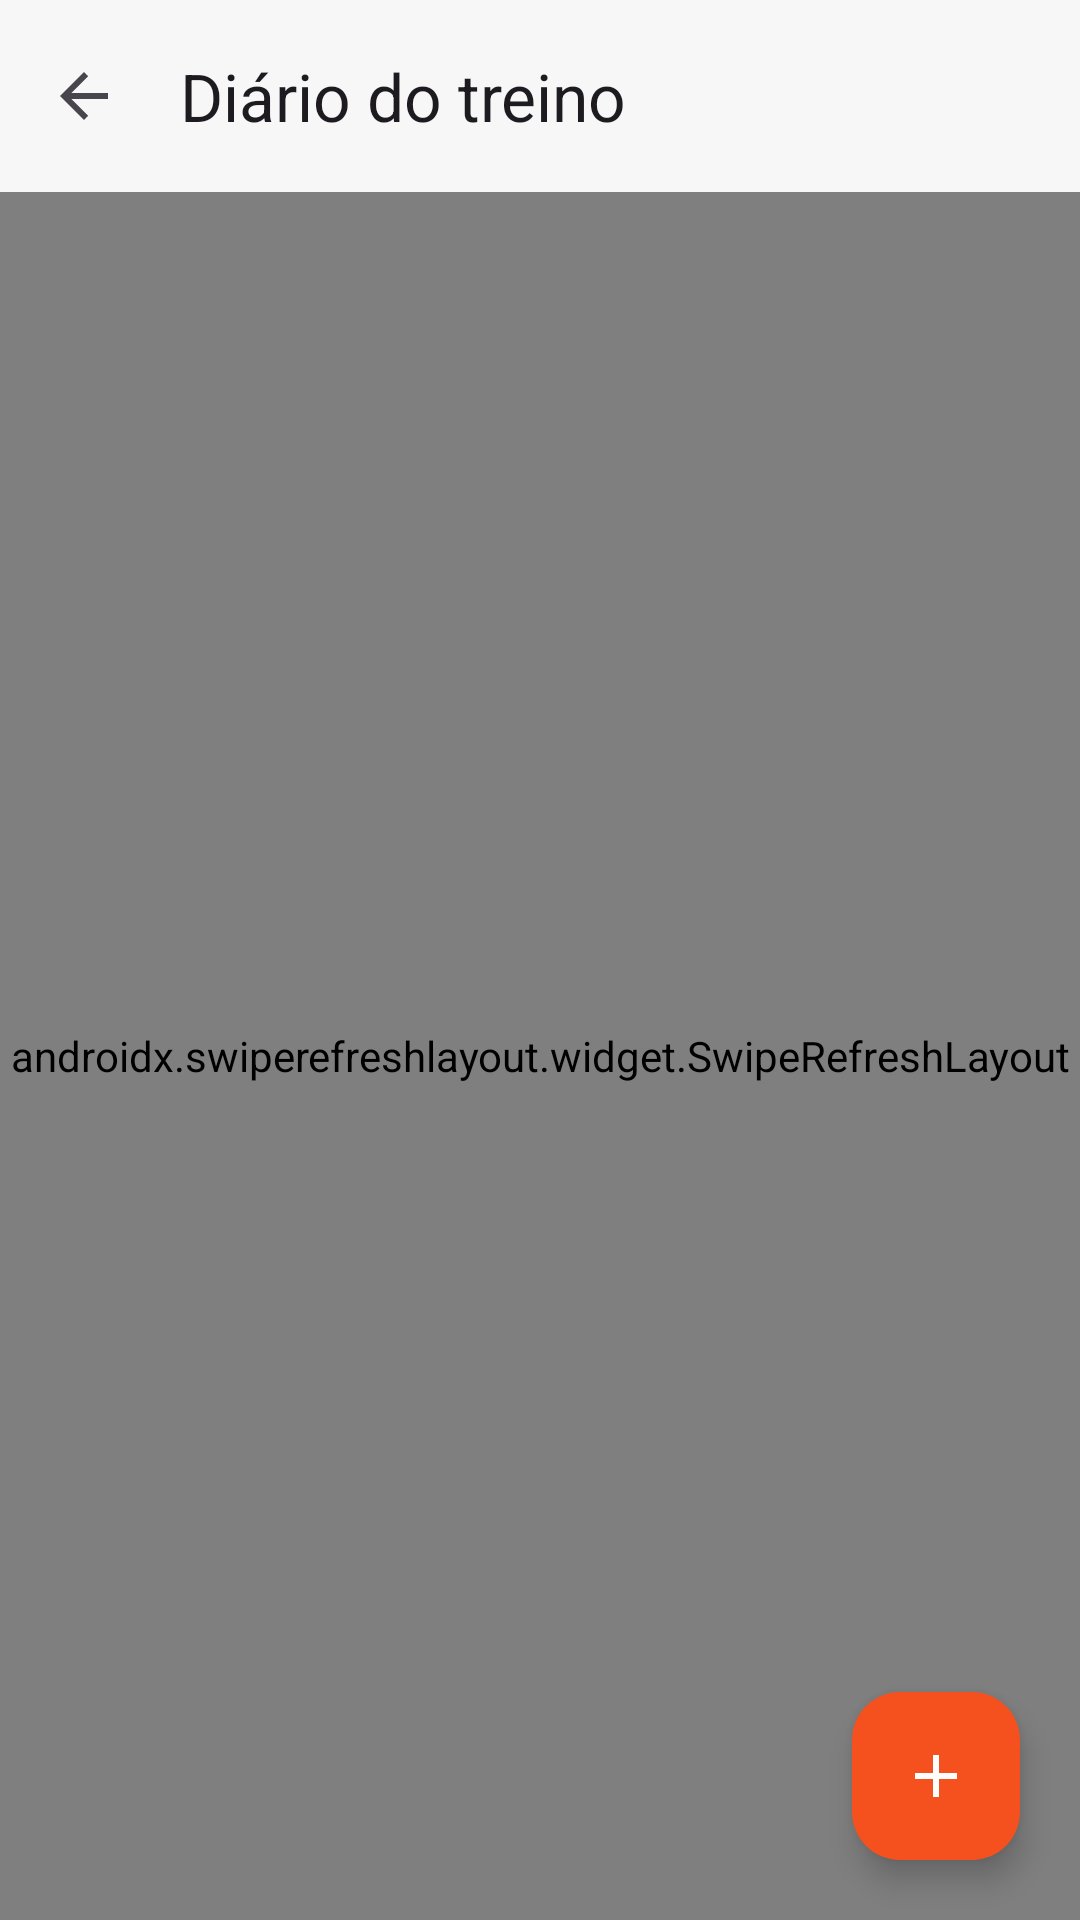

Point at icon controls on the screen. Image size 1080 x 1920, points as point (x, y).
Nova anotação: point (936, 1776)
